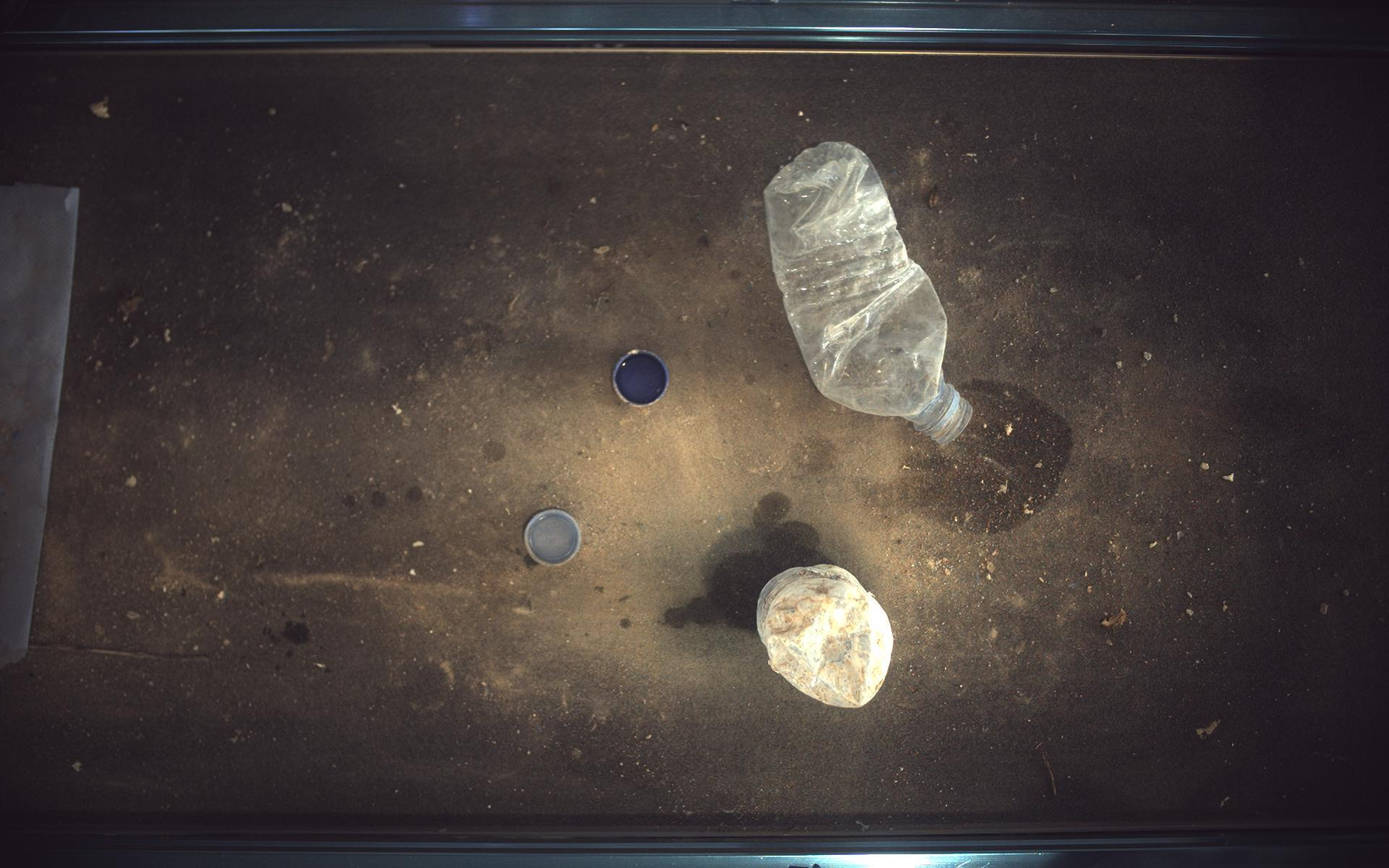general_w: (765, 141, 975, 446), (758, 564, 895, 709)
